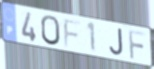1: (85, 21, 96, 54)
4: (20, 10, 38, 44)
F: (128, 28, 148, 61), (63, 18, 82, 49)
J: (108, 28, 125, 57)
O: (40, 14, 62, 47)
